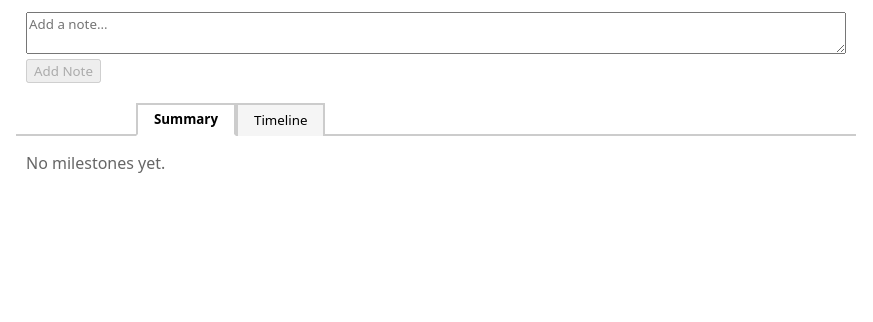
Test case: JobHistorySection › does not bundle different objects or far-apart changes
Click the button "Timeline" at (281, 119), box left=236, top=103, right=326, bottom=136
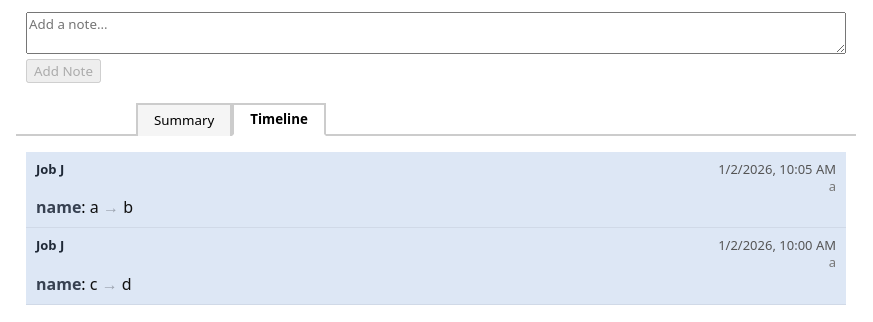
Check: the number of list items with class "entry" is 2, box left=26, top=152, right=846, bottom=228; left=26, top=228, right=846, bottom=305
